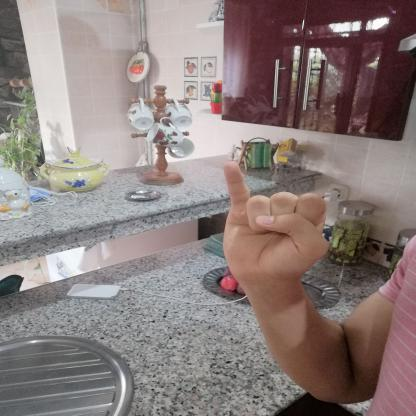MEEM: (207, 152, 344, 294)
